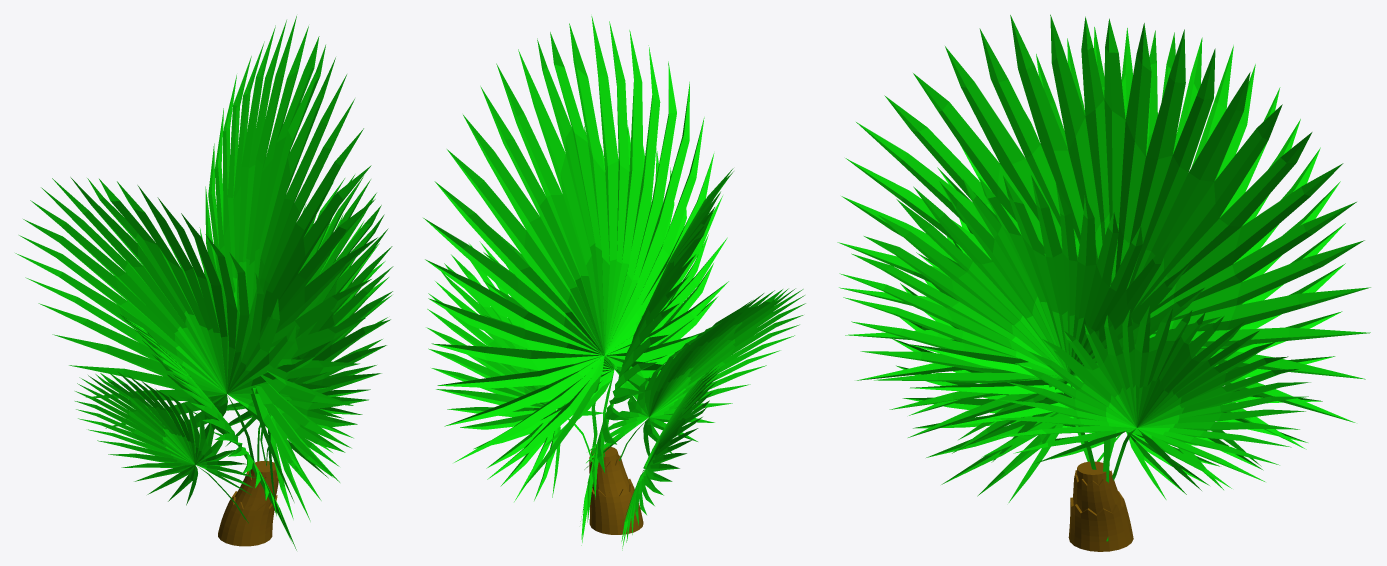
File: PalmettoRoot.fbx
3 renders of one model, left to right at view 1: azimuth 30°, elevation 25°; view 2: azimuth 150°, elevation 25°; view 3: azimuth 270°, elevation 25°, orthographic. The views are drawn at different scales.
Parts seen in each view (by area): view 1: polySurface17, polySurface16, polySurface21, polySurface20, pCylinder2, polySurface19, polySurface18; view 2: polySurface17, polySurface19, polySurface18, polySurface16, polySurface21, polySurface20, pCylinder2; view 3: polySurface17, polySurface21, polySurface18, polySurface16, pCylinder2, polySurface19, polySurface20.
Part boxes in pixels (bbox=[...]): polySurface17: bbox=[199, 16, 377, 502]; polySurface16: bbox=[15, 177, 351, 478]; polySurface21: bbox=[266, 175, 393, 521]; polySurface20: bbox=[75, 371, 254, 523]; pCylinder2: bbox=[218, 461, 278, 546]; polySurface19: bbox=[120, 314, 296, 550]; polySurface18: bbox=[225, 212, 391, 461]; polySurface17: bbox=[423, 16, 728, 490]; polySurface19: bbox=[584, 288, 805, 469]; polySurface18: bbox=[426, 241, 602, 501]; polySurface16: bbox=[580, 168, 733, 545]; polySurface21: bbox=[482, 125, 718, 447]; polySurface20: bbox=[621, 365, 719, 550]; pCylinder2: bbox=[589, 446, 643, 534]; polySurface17: bbox=[837, 14, 1370, 541]; polySurface21: bbox=[839, 175, 1246, 469]; polySurface18: bbox=[991, 305, 1310, 490]; polySurface16: bbox=[907, 27, 1345, 489]; pCylinder2: bbox=[1068, 461, 1133, 551]; polySurface19: bbox=[892, 218, 1142, 502]; polySurface20: bbox=[1050, 402, 1236, 499].
Bounding box in the file's own units: 305 × 497 × 427.
